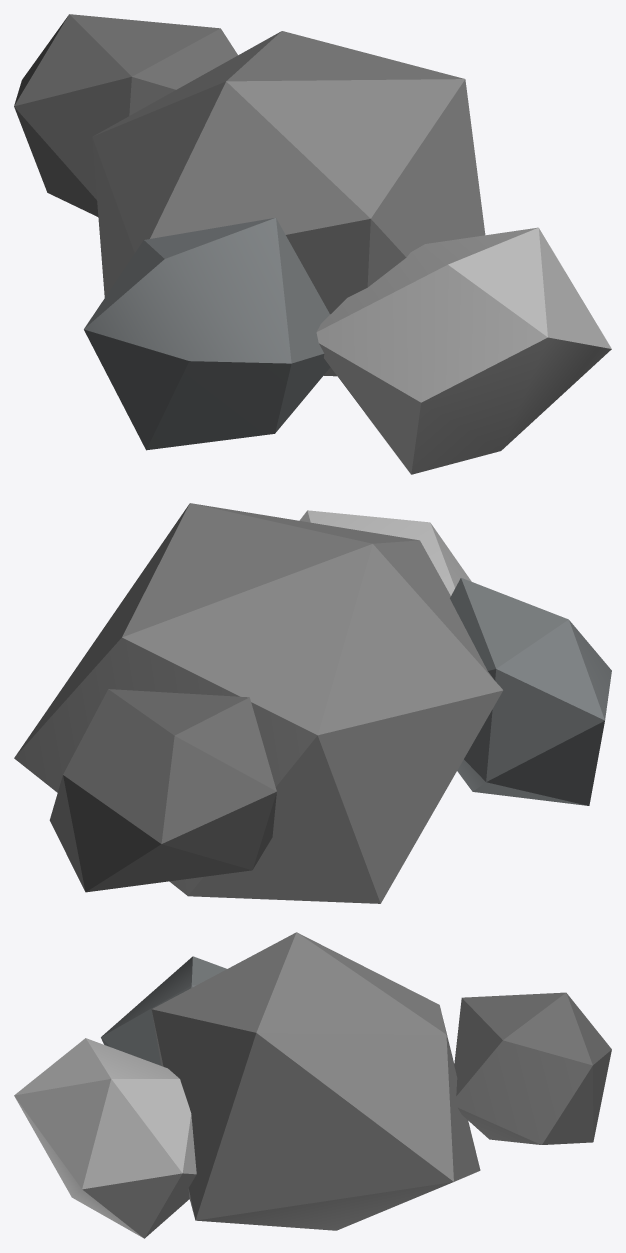
Rendered from STONE.glb.
3 views of the same model, one above another, from view 1: azimuth 30°, elevation 25°; view 2: azimuth 150°, elevation 25°; view 3: azimuth 270°, elevation 25° (orthographic). The views are drawn at different scales.
Parts seen in each view (by area): view 1: STONE; view 2: STONE; view 3: STONE.
Part boxes in pixels (<box>): STONE: <box>14,14,611,474</box>; STONE: <box>14,503,611,903</box>; STONE: <box>14,932,611,1238</box>.
Size of the model in its own units: 0.133 by 0.0915 by 0.2036.
1 material, 1 textured.
